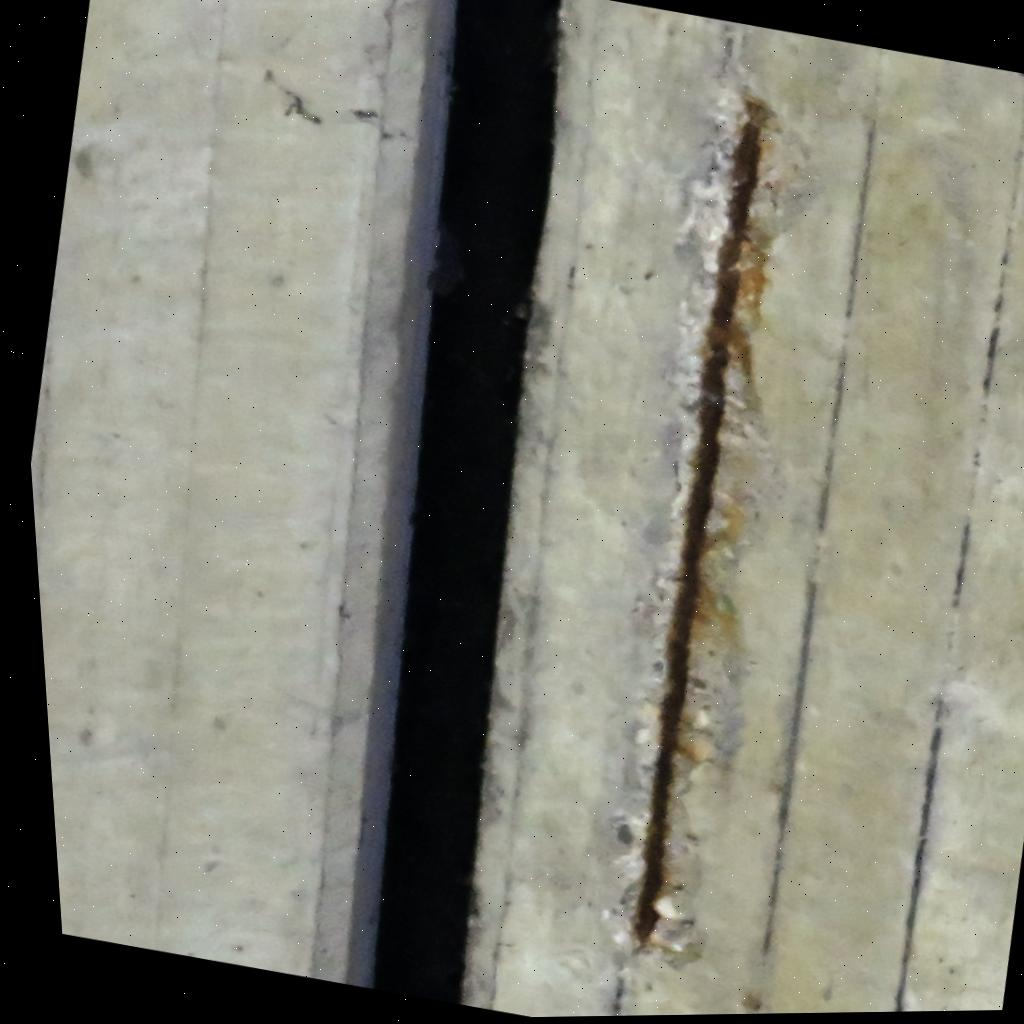exposed_rebar: (632, 101, 769, 946)
